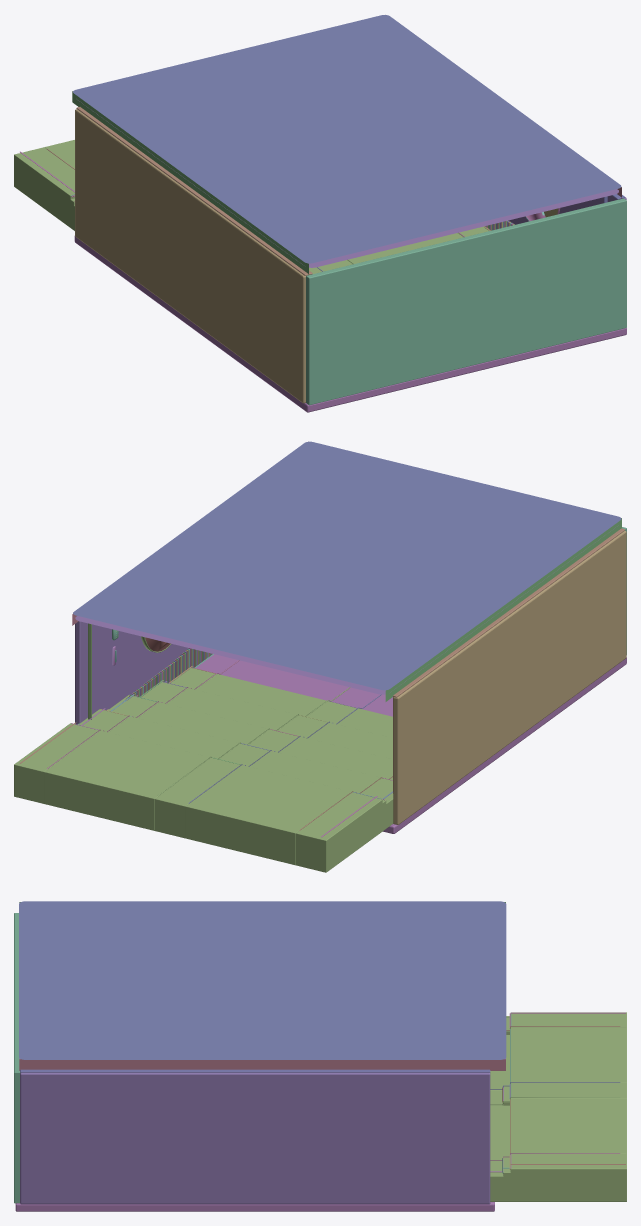
The model's file is theatre-marked.glb.
3 renders of one model, top to bottom at view 1: azimuth 30°, elevation 25°; view 2: azimuth 150°, elevation 25°; view 3: azimuth 270°, elevation 25°, orthographic. The views are drawn at different scales.
Visible parts, largest first — view 1: theatre; view 2: theatre; view 3: theatre.
Boxes of the visible parts, <box> form: theatre: <box>14,15,626,412</box>; theatre: <box>14,441,626,872</box>; theatre: <box>14,901,626,1211</box>.
Bounding box in the file's own units: 17 × 7.38 × 27.11.
